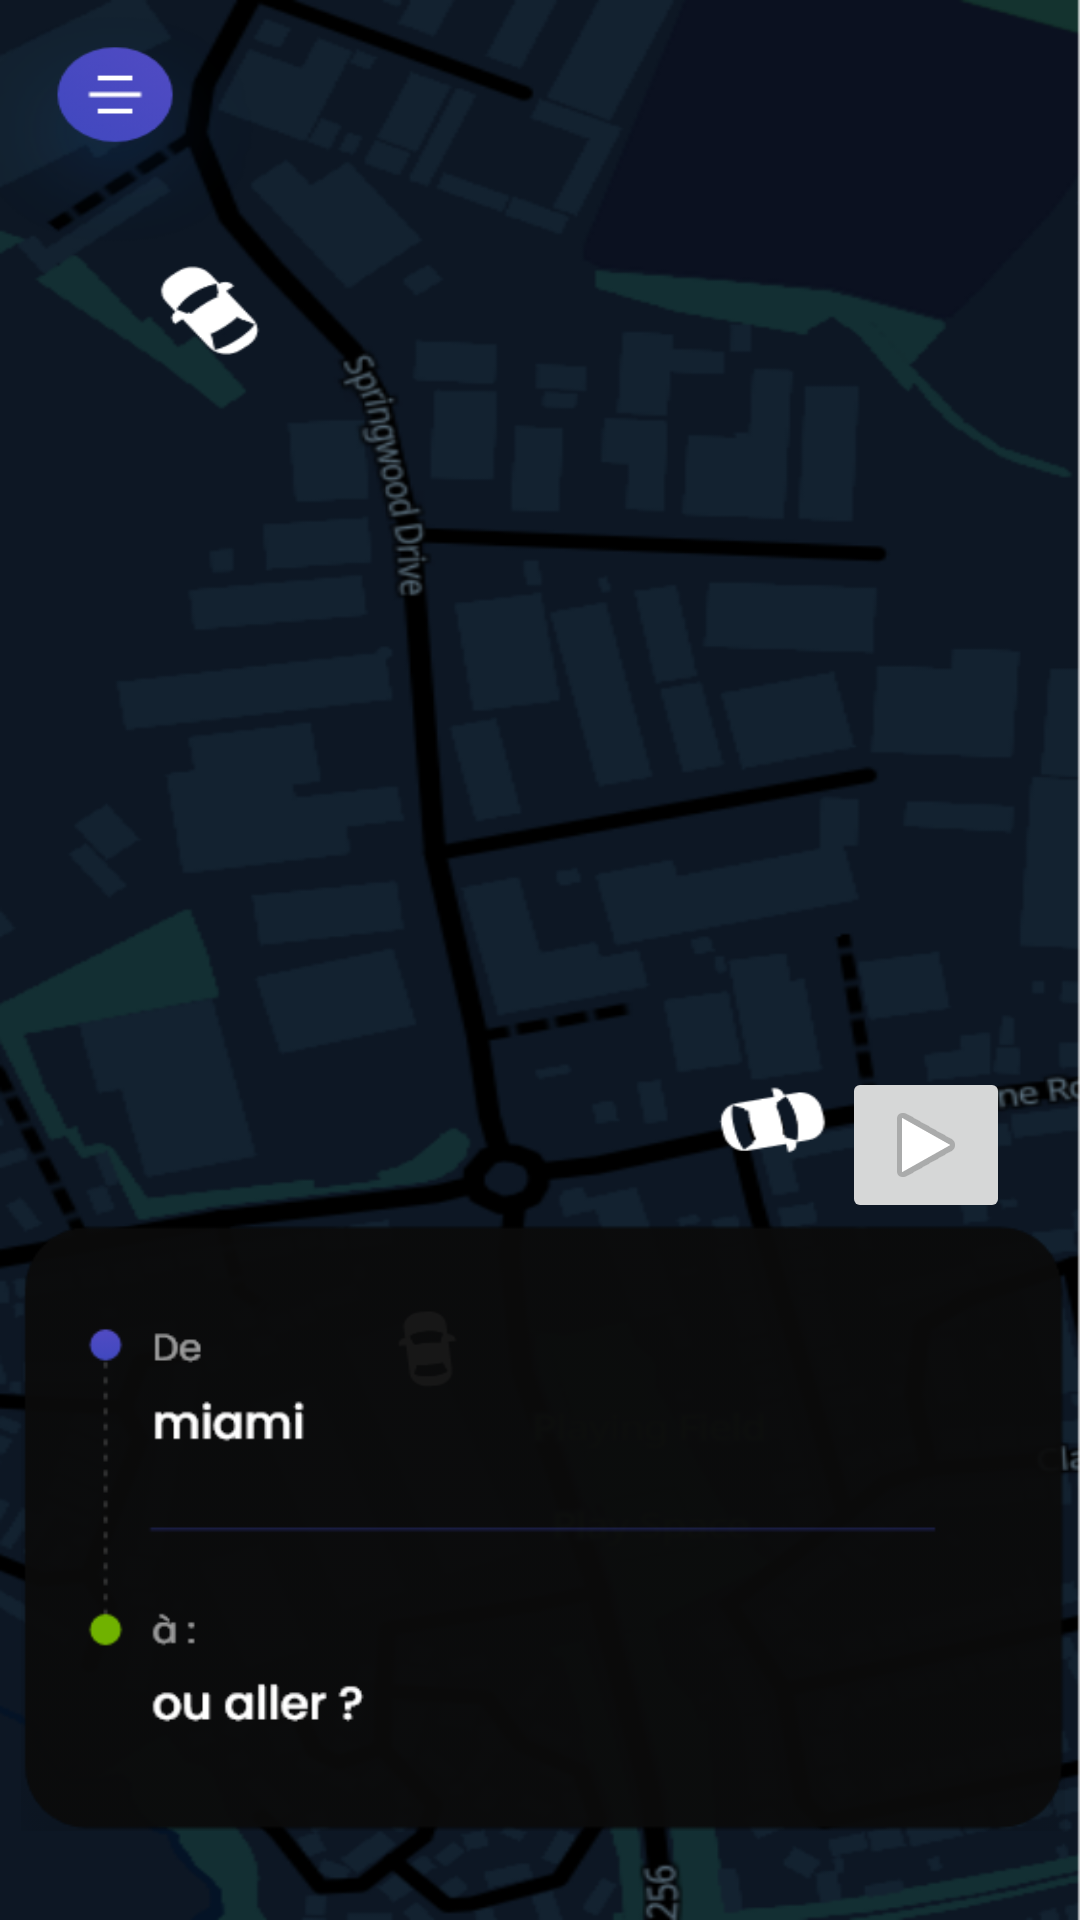

Point at icon controls on the screen. Image size 1080x1920, points as [x,y].
play: [926,1136]
